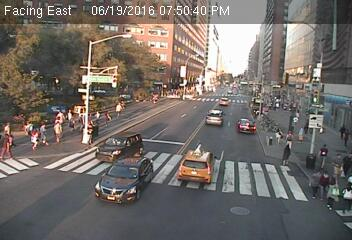neg: (178, 64, 189, 78), (194, 76, 205, 90), (133, 88, 142, 100), (172, 85, 181, 97), (213, 73, 221, 84)
pos: (314, 168, 338, 199), (321, 177, 343, 206), (303, 171, 325, 199), (313, 142, 333, 168), (278, 143, 297, 168), (337, 180, 351, 213), (329, 151, 347, 176), (26, 124, 44, 149), (34, 120, 52, 144), (48, 121, 64, 142), (74, 111, 88, 129), (111, 100, 125, 118), (340, 151, 351, 173), (297, 125, 310, 143), (272, 127, 285, 144), (341, 128, 351, 148), (100, 108, 112, 124), (54, 105, 66, 120), (286, 127, 297, 142), (338, 123, 349, 138), (67, 116, 78, 130), (1, 119, 11, 133), (24, 117, 33, 129), (65, 106, 74, 118), (93, 110, 101, 120), (54, 115, 60, 122)
